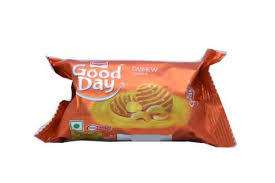gooday-small: (48, 53, 228, 134)
